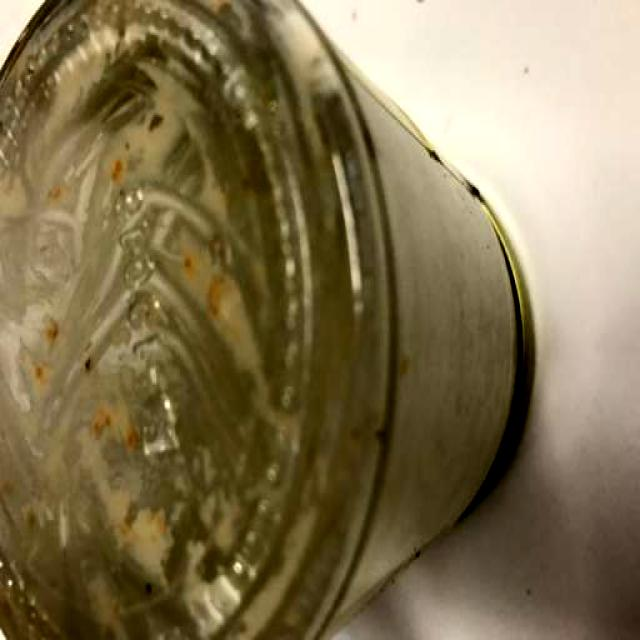Glass: (0, 0, 535, 640)
